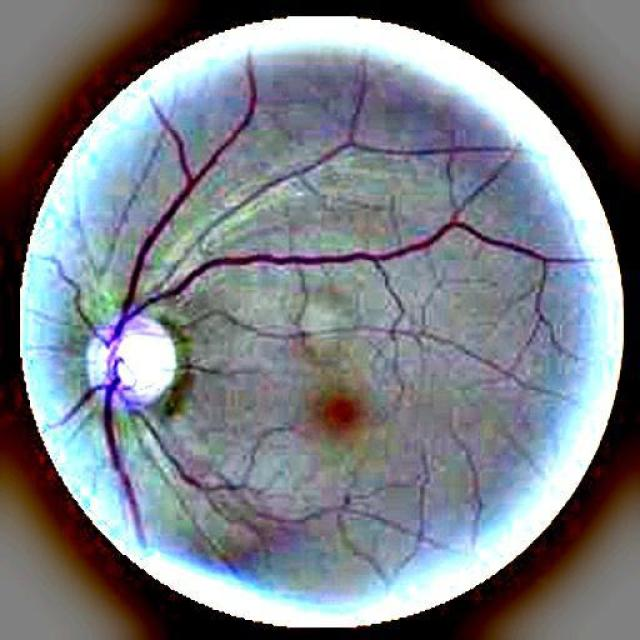Macula: (324, 395, 355, 428)
Nerves: (54, 50, 588, 539)
Optic Disk: (86, 315, 175, 411)
